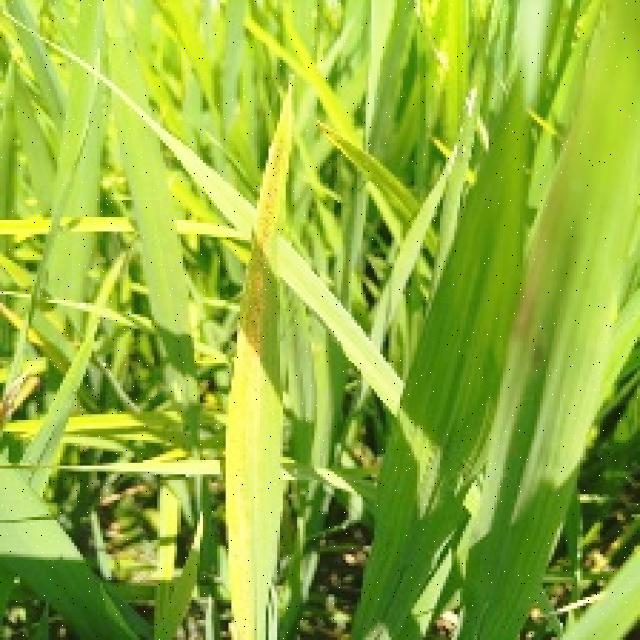health: (355, 3, 640, 636)
